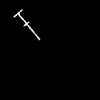double_crochet: (14, 10, 39, 39)
